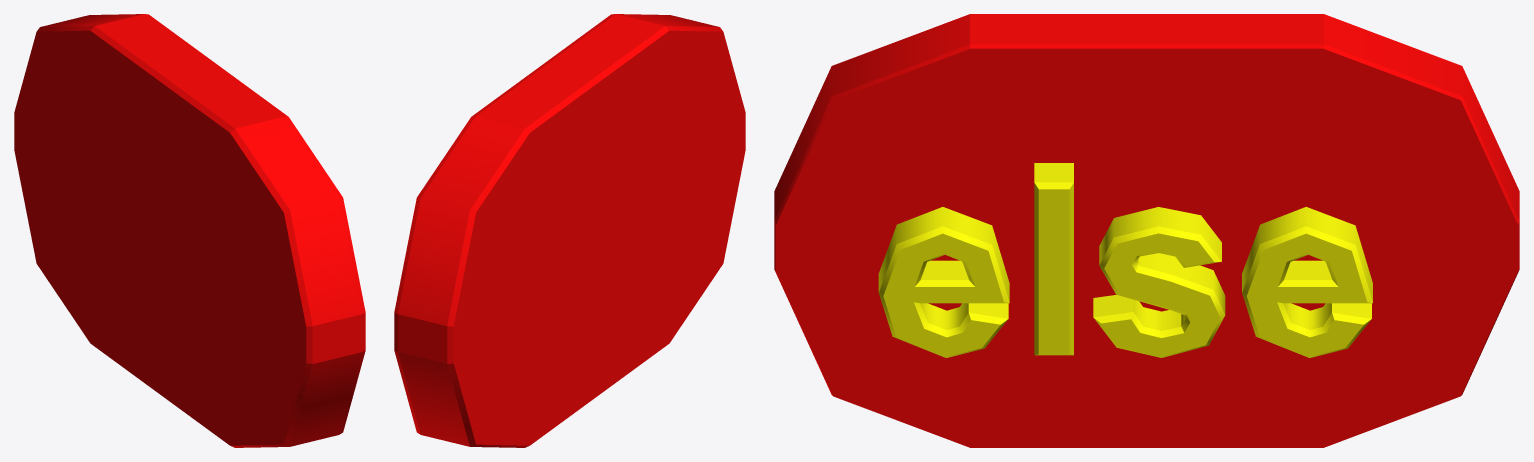
The model's file is else.FBX.
3 renders of one model, left to right at view 1: azimuth 30°, elevation 25°; view 2: azimuth 150°, elevation 25°; view 3: azimuth 270°, elevation 25°, orthographic. The views are drawn at different scales.
Visible parts, largest first — view 1: else; view 2: else; view 3: else.
Boxes of the visible parts, x1=… form: else: x1=14, y1=14, x2=365, y2=447; else: x1=394, y1=14, x2=745, y2=447; else: x1=774, y1=14, x2=1519, y2=447.
Size of the model in its own units: 119 by 381 by 639.
